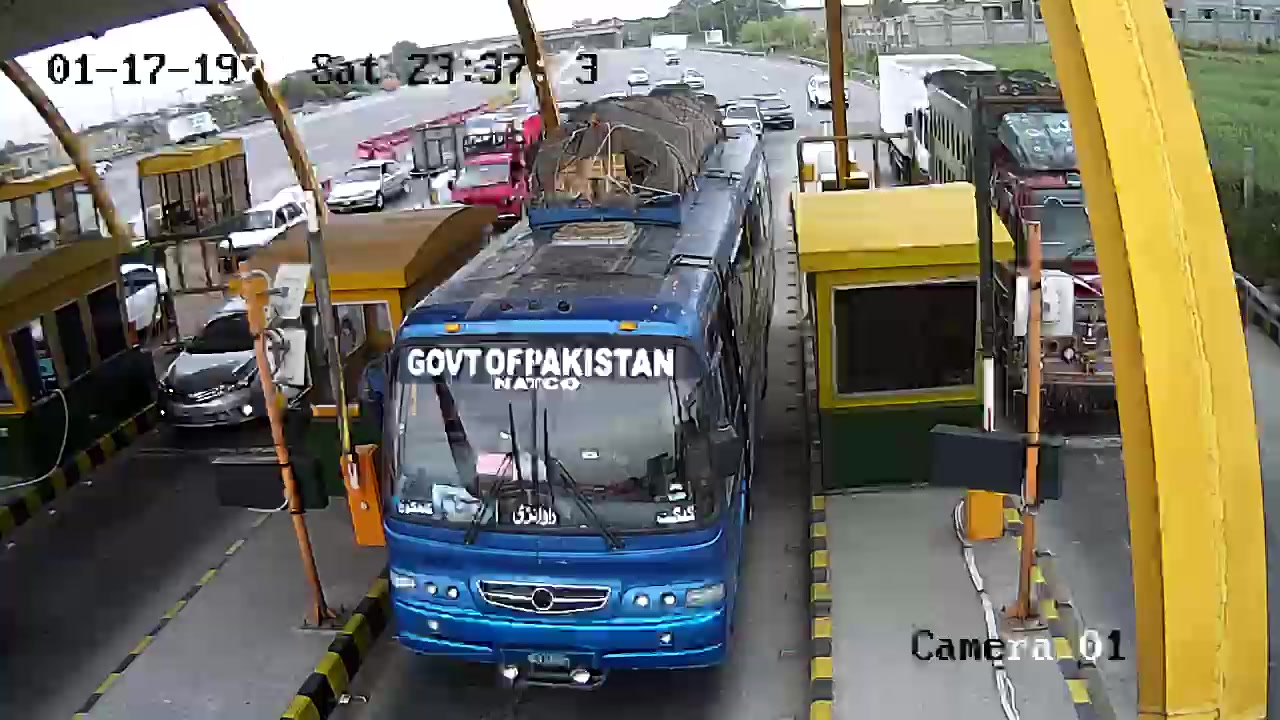F4: (386, 86, 782, 690)
